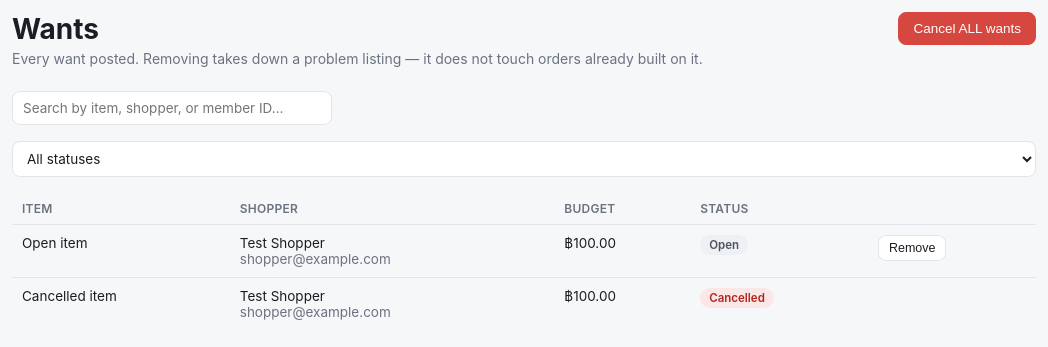
Test: WantsPage › filters by status
Check: the text "Open item" is shown, box [12,224,230,278]
Check: the text "Cancelled item" is shown, box [12,278,230,330]
Select "Cancelled" in the dropdown showing "All statuses" at x=524, y=159, box [12,141,1036,177]
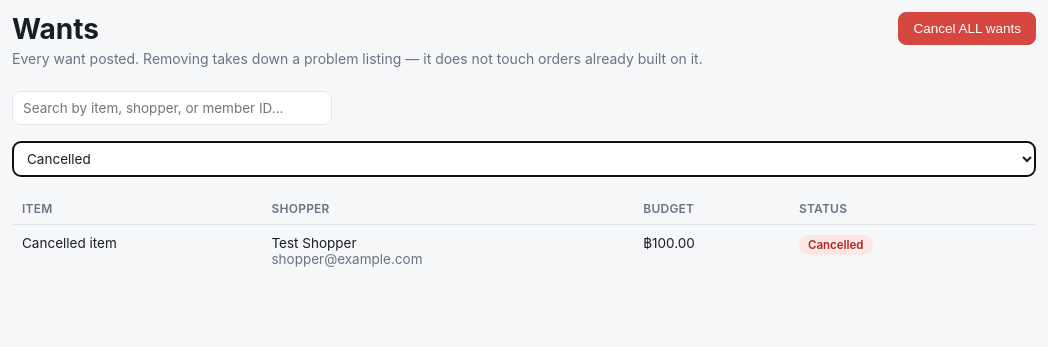
Check: the text "Cancelled item" is shown, box [12,224,262,277]
Check: the text "Open item" is gone
